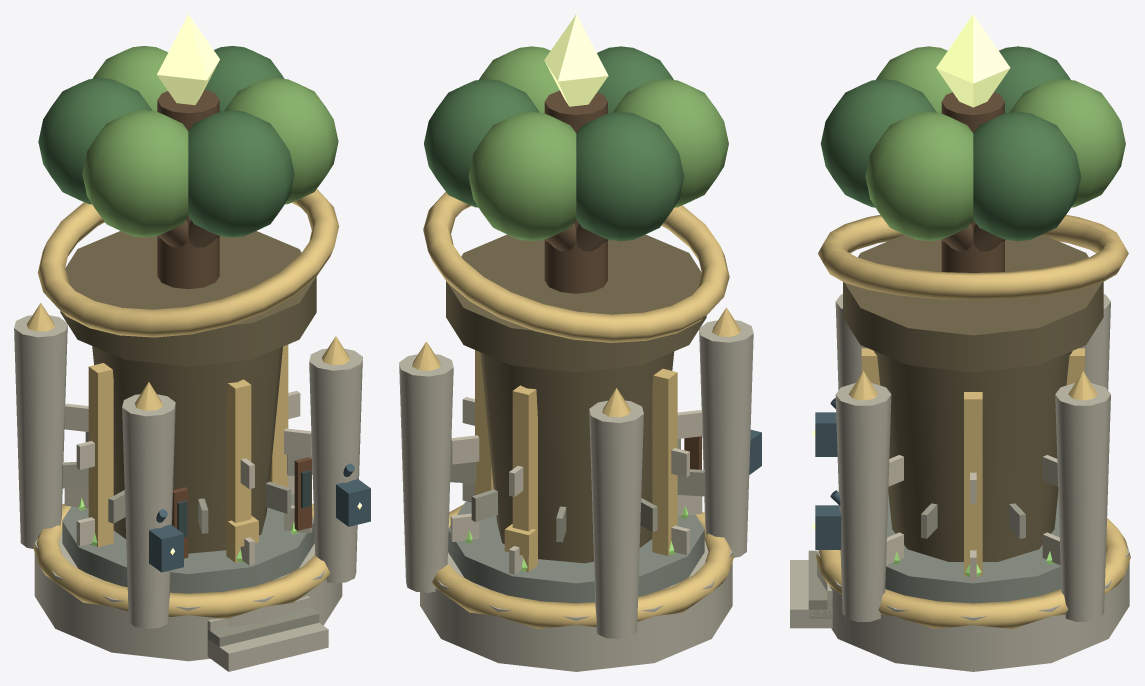
File: tower-nature-2-base.glb
3 renders of one model, left to right at view 1: azimuth 30°, elevation 25°; view 2: azimuth 150°, elevation 25°; view 3: azimuth 270°, elevation 25°, orthographic.
Parts seen in each view (by area): view 1: Foundation, Turret, nature-L2-base; view 2: Turret, Foundation, nature-L2-base; view 3: Turret, Foundation, nature-L2-base.
Part boxes in pixels (x1=…): Foundation: x1=14, y1=303, x2=370, y2=671; Turret: x1=37, y1=14, x2=339, y2=366; nature-L2-base: x1=34, y1=494, x2=342, y2=661; Turret: x1=423, y1=14, x2=729, y2=372; Foundation: x1=399, y1=307, x2=761, y2=639; nature-L2-base: x1=420, y1=501, x2=732, y2=671; Turret: x1=818, y1=14, x2=1128, y2=372; Foundation: x1=790, y1=294, x2=1130, y2=628; nature-L2-base: x1=817, y1=493, x2=1129, y2=671.
Bounding box in the file's own units: 1.69 × 3.51 × 1.83.
